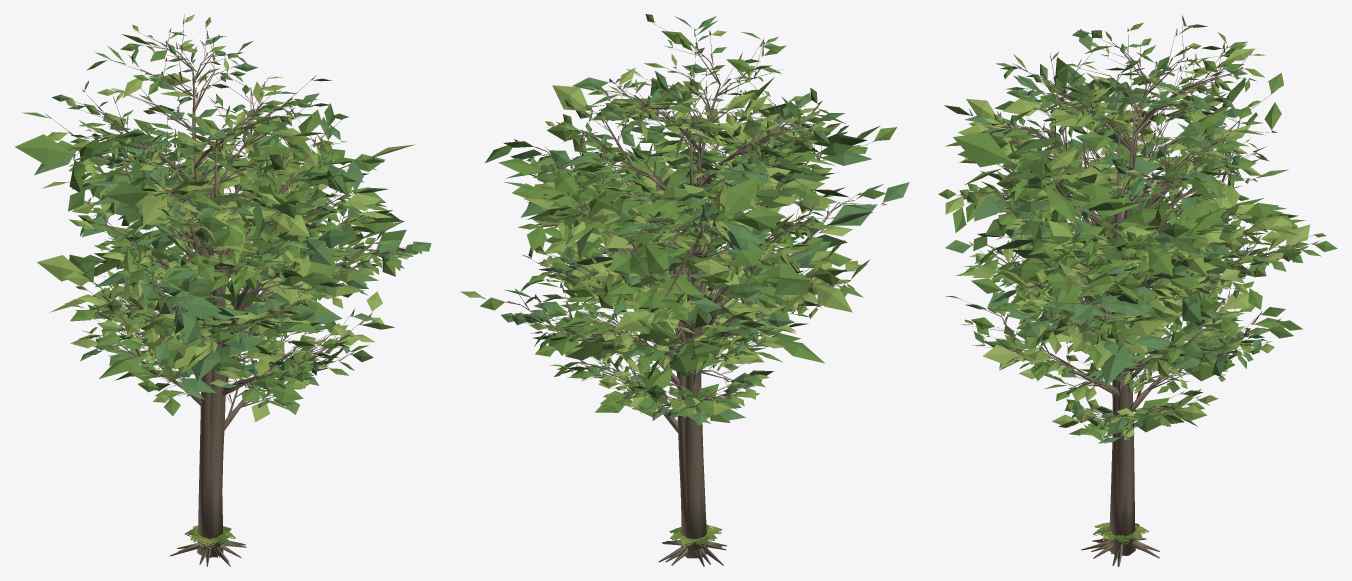
The model's file is vegetation.glb.
The picture shows the model from 3 angles, left to right: view 1: azimuth 30°, elevation 25°; view 2: azimuth 150°, elevation 25°; view 3: azimuth 270°, elevation 25°; orthographic projection. The views are drawn at different scales.
Parts seen in each view (by area): view 1: broadleaf_spreading_far, broadleaf_spreading_mid, broadleaf_upright_mid, broadleaf_windswept_mid, broadleaf_upright_far, broadleaf_windswept_far; view 2: broadleaf_spreading_far, broadleaf_spreading_mid, broadleaf_upright_mid, broadleaf_windswept_mid, broadleaf_upright_far, broadleaf_windswept_far; view 3: broadleaf_spreading_mid, broadleaf_spreading_far, broadleaf_windswept_mid, broadleaf_upright_mid, broadleaf_windswept_far, broadleaf_upright_far.
Boxes of the visible parts, x1,y1,x2,y2 form: broadleaf_spreading_far: (14,109,414,557); broadleaf_spreading_mid: (22,103,418,557); broadleaf_upright_mid: (52,14,342,537); broadleaf_windswept_mid: (65,111,422,487); broadleaf_upright_far: (87,34,345,566); broadleaf_windswept_far: (70,118,431,564); broadleaf_spreading_far: (498,77,876,565); broadleaf_spreading_mid: (484,79,909,558); broadleaf_upright_mid: (534,14,838,542); broadleaf_windswept_mid: (460,122,861,518); broadleaf_upright_far: (542,16,845,565); broadleaf_windswept_far: (504,133,869,566); broadleaf_spreading_mid: (944,29,1299,555); broadleaf_spreading_far: (953,57,1305,566); broadleaf_windswept_mid: (938,103,1337,517); broadleaf_upright_mid: (975,14,1271,496); broadleaf_windswept_far: (981,106,1310,565); broadleaf_upright_far: (969,30,1288,566).
Bounding box in the file's own units: 6.95 × 9.38 × 6.81.
